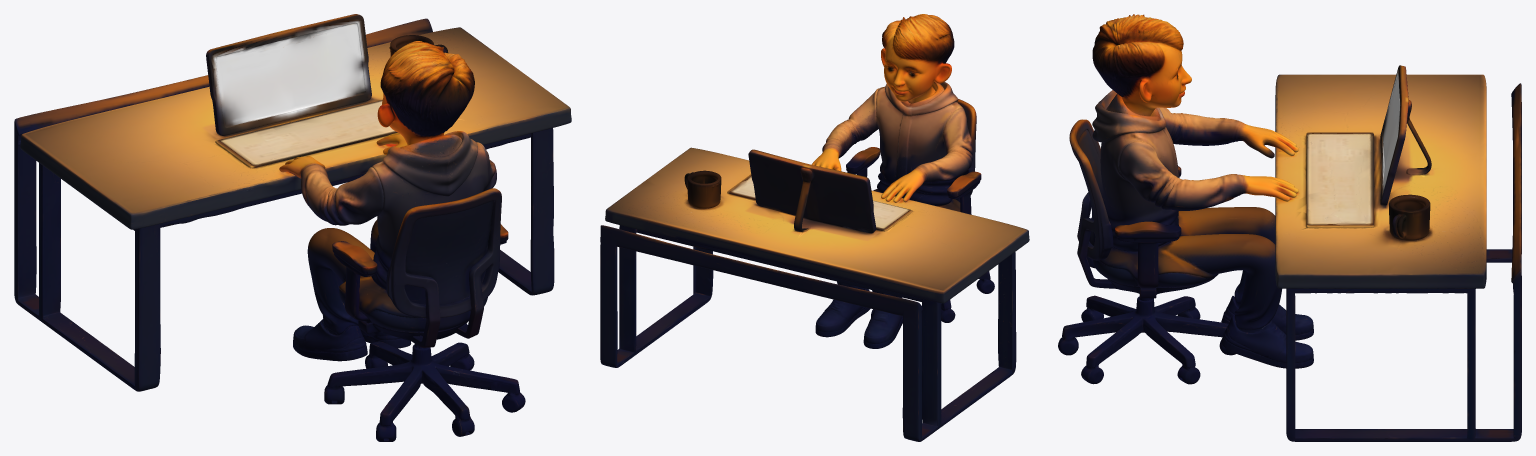
File: avatar.glb
3 renders of one model, left to right at view 1: azimuth 30°, elevation 25°; view 2: azimuth 150°, elevation 25°; view 3: azimuth 270°, elevation 25°, orthographic. The views are drawn at different scales.
Visible parts, largest first — view 1: material; view 2: material; view 3: material.
Boxes of the visible parts, <box> form: material: <box>14,14,571,441</box>; material: <box>600,14,1029,441</box>; material: <box>1058,14,1521,441</box>.
Size of the model in its own units: 0.7819 by 0.6055 by 0.7619.
Materials: 1 (1 with a texture image).
